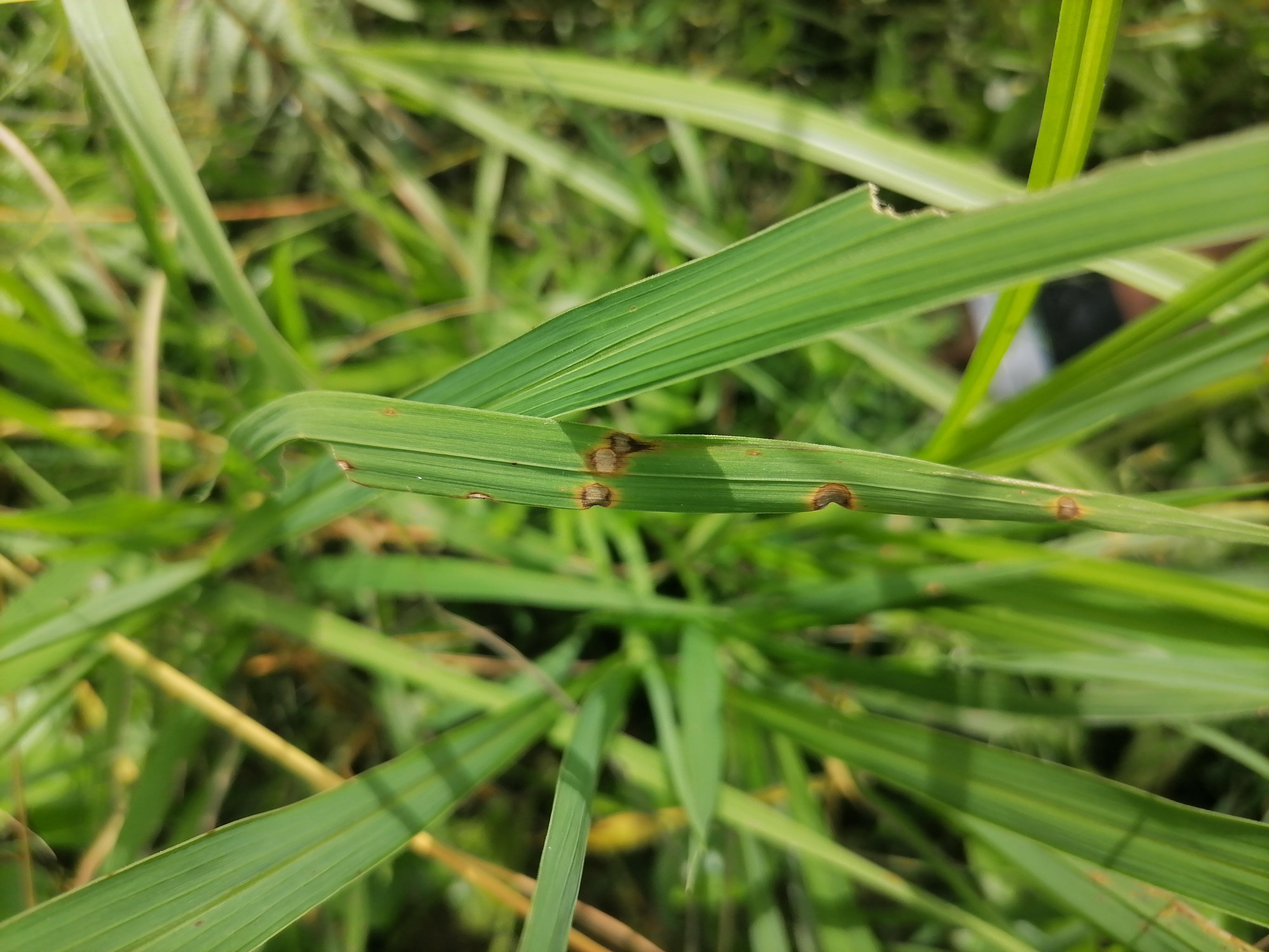Brown spot: (639, 433, 694, 497), (586, 606, 632, 652), (592, 433, 634, 477), (573, 784, 615, 818)
